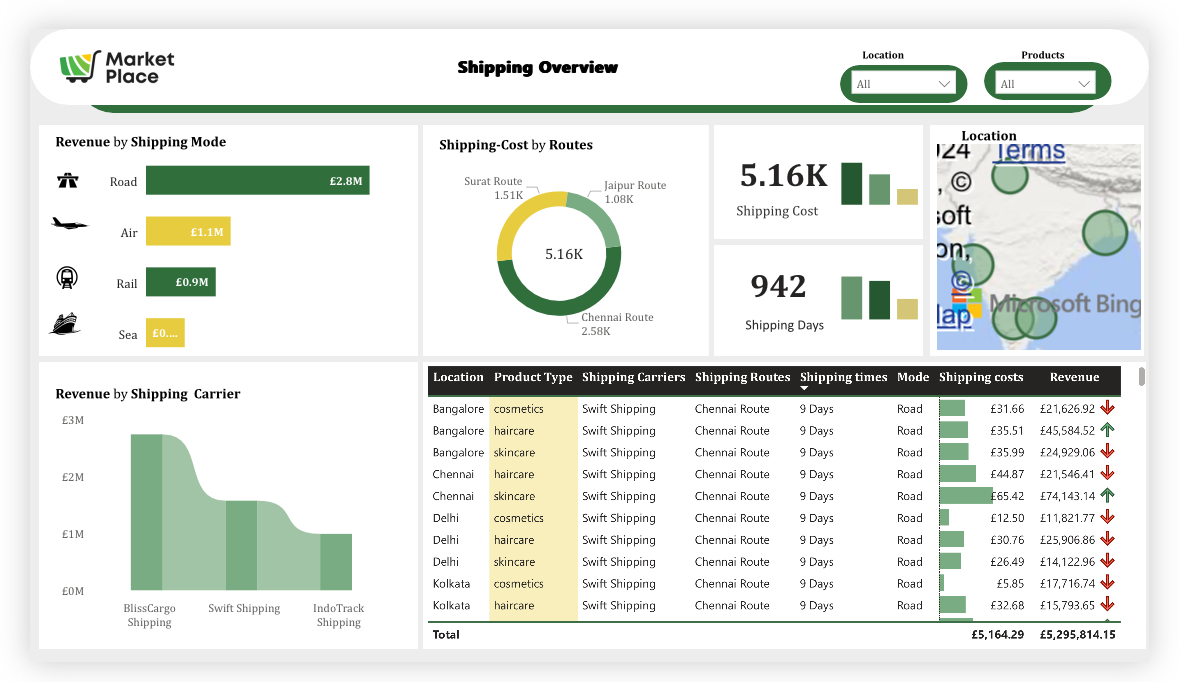

The page's visual inventory and layout, read from the dashboard file:
{"tool":"powerbi","page":{"name":"Shipping","canvas":[1280,720],"ordinal":1},"visuals":[{"type":"shape","box":[9.1,380,433.6,328.2],"z":0},{"type":"shape","box":[8.7,108.4,433.7,264.2],"z":1000},{"type":"shape","box":[448.2,380,827.3,328.2],"z":2000},{"type":"shape","box":[1030.8,108.5,245.4,264.6],"z":3000},{"type":"shape","box":[53.1,8.5,1183.4,89.4],"z":4000},{"type":"shape","box":[0,0,1280,86.9],"z":5000},{"type":"image","box":[25.4,7.2,153.4,73.7],"z":6000},{"type":"shape","box":[925,39.8,146.1,43.5],"z":7000},{"type":"slicer","fields":{"Values":["Dim Location.Location"]},"box":[928.6,37.4,138.9,48.3],"z":8000},{"type":"shape","box":[1090.4,37.4,146.1,43.5],"z":9000},{"type":"slicer","fields":{"Values":["Dim Products.Product type"]},"box":[1095.2,36.2,134,44.7],"z":10000},{"type":"textbox","box":[947.9,13.3,83.3,30.2],"z":11000},{"type":"textbox","box":[1129.5,13.8,83.7,30.7],"z":12000},{"type":"textbox","box":[485,25,230,45],"z":13000},{"type":"clusteredBarChart","fields":{"Category":["Dim Shipping.Transportation modes"],"Y":["Measure Table.Sum of Revenue"]},"box":[83.8,118.8,358.8,275],"z":14000},{"type":"tableEx","fields":{"Values":["Dim Location.Location","Dim Products.Product type","Dim Shipping.Shipping carriers","Dim Shipping.Routes","Dim Shipping.Shipping times","Dim Shipping.Transportation modes","Sum(Fact Table.Shipping costs)","Measure Table.Sum of Revenue"]},"box":[448.2,380,831.8,328.2],"z":15000},{"type":"image","box":[15,315.3,52.3,44.9],"z":16000},{"type":"image","box":[15,265.5,57.3,41.1],"z":17000},{"type":"image","box":[15,206.9,61.1,33.7],"z":18000},{"type":"image","box":[15,157,61.1,33.7],"z":19000},{"type":"textbox","box":[25.4,113.9,236.5,44.2],"z":20000},{"type":"ribbonChart","fields":{"Category":["Dim Shipping.Shipping carriers"],"Y":["Measure Table.Sum of Revenue"]},"box":[25.4,433.4,399.5,260.7],"z":21000},{"type":"textbox","box":[24.9,401.3,236.8,43.6],"z":22000},{"type":"map","fields":{"X":["Dim Location.Longitude"],"Y":["Dim Location.Latitide"],"Series":["Dim Location.Location"],"Size":["CountNonNull(Fact Table.Revenue generated)"]},"box":[1032.1,127.1,242.9,245.7],"z":23000},{"type":"textbox","box":[1059,108,177,36],"z":24000},{"type":"shape","box":[783.8,108.5,239.2,130.8],"z":25000},{"type":"shape","box":[783.8,246.2,239.2,126.9],"z":26000},{"type":"card","fields":{"Values":["Measure Table.sum of shipping cost"]},"box":[783.8,136.2,158.8,55],"z":27000},{"type":"card","fields":{"Values":["CountNonNull(Fact Table.Lead times)"]},"box":[772.5,268.8,170,46.2],"z":28000},{"type":"textbox","box":[803.8,193.8,120,30],"z":29000},{"type":"textbox","box":[812.5,322.5,135,33.8],"z":30000},{"type":"columnChart","fields":{"Category":["Dim Products.Product type"],"Y":["Measure Table.sum of shipping cost"]},"box":[923.8,251.5,99.2,87.7],"z":31000},{"type":"shape","box":[448.5,108.5,326.9,264.6],"z":32000},{"type":"donutChart","fields":{"Category":["Dim Shipping.Routes"],"Y":["Measure Table.sum of shipping cost"]},"box":[463.8,155,283.8,205],"z":33000},{"type":"card","fields":{"Values":["Measure Table.sum of shipping cost"]},"box":[526.7,240,171.7,35],"z":34000},{"type":"textbox","box":[463.8,115,207.5,40],"z":35000},{"type":"columnChart","fields":{"Category":["Dim Products.Product type"],"Y":["Measure Table.sum of products sold"]},"box":[923.8,118.5,99.2,86.9],"z":36000}]}

Visuals, with their boxes in screenshot pixels (x1, y1, x2, y2), scaled from the page's 1280x720 canvas onto the 1179x682 screenshot:
shape: box=[8, 360, 408, 671]
shape: box=[8, 103, 407, 353]
shape: box=[413, 360, 1175, 671]
shape: box=[949, 103, 1175, 353]
shape: box=[49, 8, 1139, 93]
shape: box=[0, 0, 1178, 82]
image: box=[23, 7, 165, 77]
shape: box=[852, 38, 987, 79]
slicer - Dim Location.Location: box=[855, 35, 983, 81]
shape: box=[1004, 35, 1139, 77]
slicer - Dim Products.Product type: box=[1009, 34, 1132, 77]
textbox: box=[873, 13, 950, 41]
textbox: box=[1040, 13, 1117, 42]
textbox: box=[447, 24, 659, 66]
clusteredBarChart - Dim Shipping.Transportation modes x Measure Table.Sum of Revenue: box=[77, 113, 408, 373]
tableEx - Dim Location.Location x Dim Products.Product type: box=[413, 360, 1178, 671]
image: box=[14, 299, 62, 341]
image: box=[14, 251, 67, 290]
image: box=[14, 196, 70, 228]
image: box=[14, 149, 70, 181]
textbox: box=[23, 108, 241, 150]
ribbonChart - Dim Shipping.Shipping carriers x Measure Table.Sum of Revenue: box=[23, 411, 391, 657]
textbox: box=[23, 380, 241, 421]
map - Dim Location.Longitude x Dim Location.Latitide: box=[951, 120, 1174, 353]
textbox: box=[975, 102, 1138, 136]
shape: box=[722, 103, 942, 227]
shape: box=[722, 233, 942, 353]
card - Measure Table.sum of shipping cost: box=[722, 129, 868, 181]
card - CountNonNull(Fact Table.Lead times): box=[712, 255, 868, 298]
textbox: box=[740, 184, 851, 212]
textbox: box=[748, 305, 873, 337]
columnChart - Dim Products.Product type x Measure Table.sum of shipping cost: box=[851, 238, 942, 321]
shape: box=[413, 103, 714, 353]
donutChart - Dim Shipping.Routes x Measure Table.sum of shipping cost: box=[427, 147, 689, 341]
card - Measure Table.sum of shipping cost: box=[485, 227, 643, 260]
textbox: box=[427, 109, 618, 147]
columnChart - Dim Products.Product type x Measure Table.sum of products sold: box=[851, 112, 942, 195]
